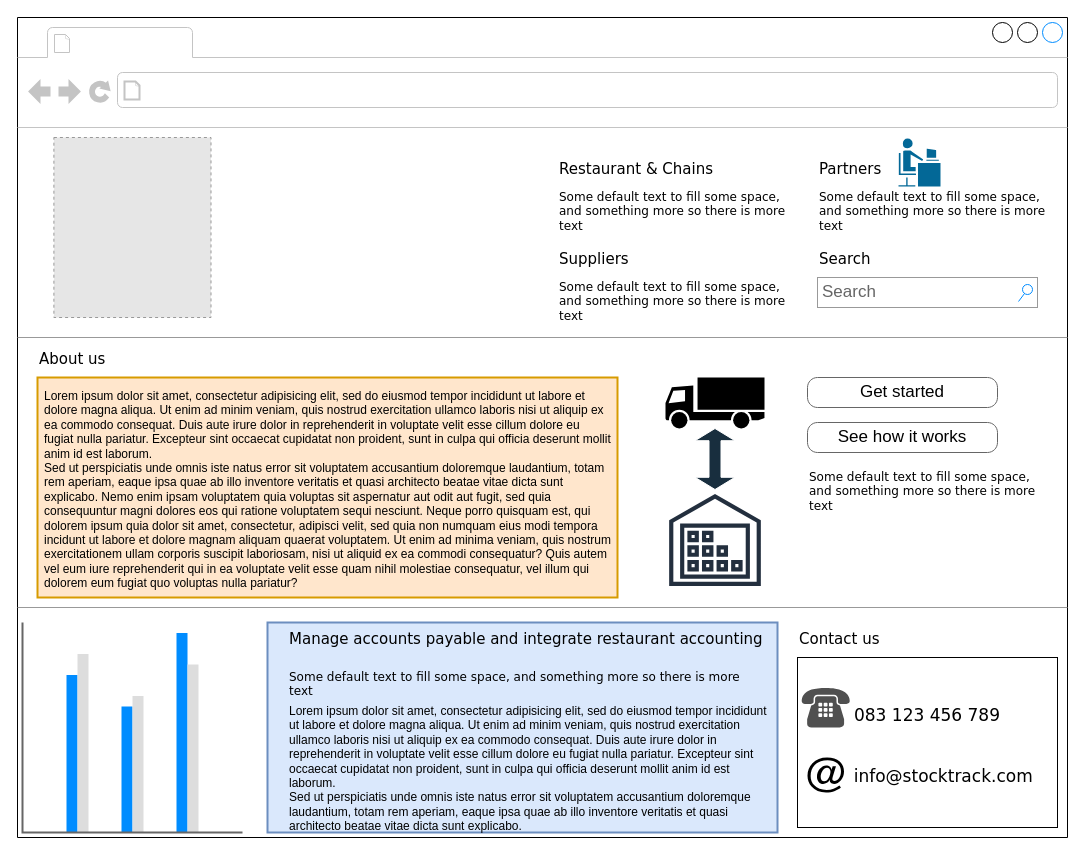
Some shapes in this 1085 by 855 pixel diagram are drawn without their labels. Grey dashed boxes stand in for pictures. The shapes that lost their labels are listed below. From the top down, each one's centre as x and y in pixels, then its label:
At (132,42): "Page 1".
At (272,90): "https://stocktrack.ie".
